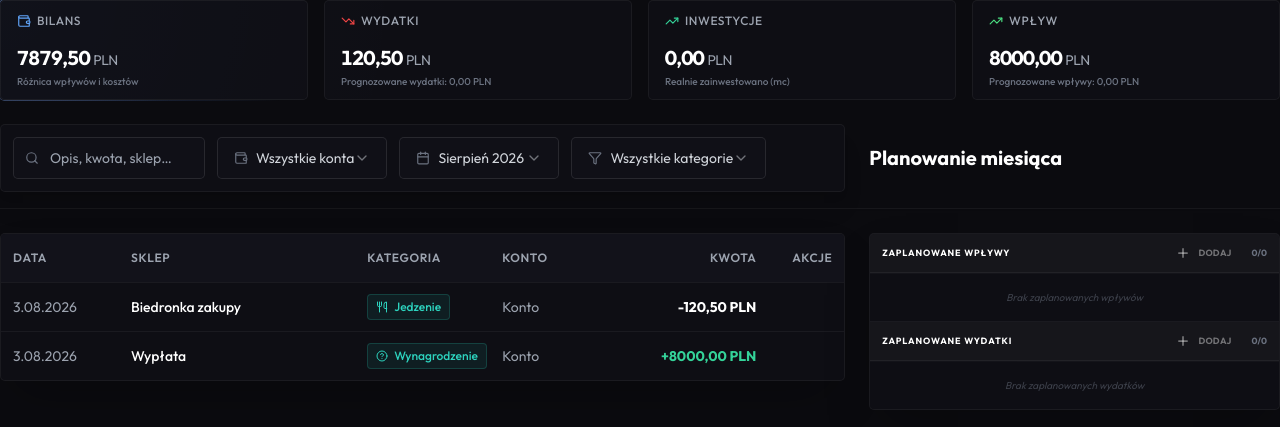
Scenario: Transactions › wyszukiwarka filtruje listę po opisie
The width and height of the screenshot is (1280, 427).
In the field with placeholder "Opis, kwota, sklep…": (109, 158) [13,137,205,179], type "wypłata"
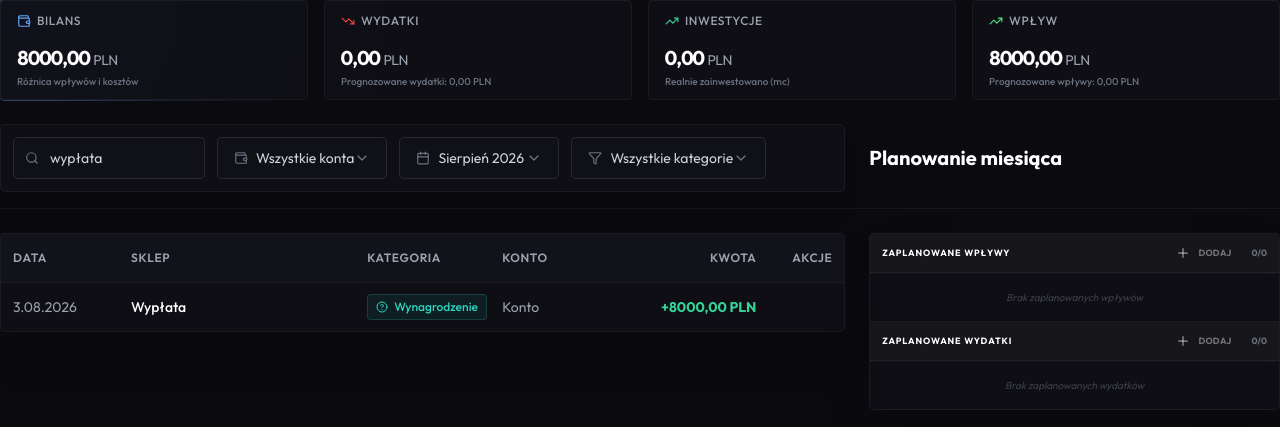
Expected: the button "Biedronka zakupy" is gone
